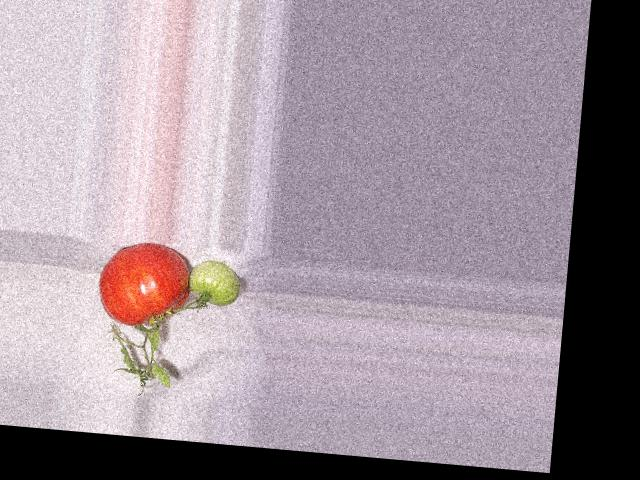tomato: (95, 239, 194, 330)
